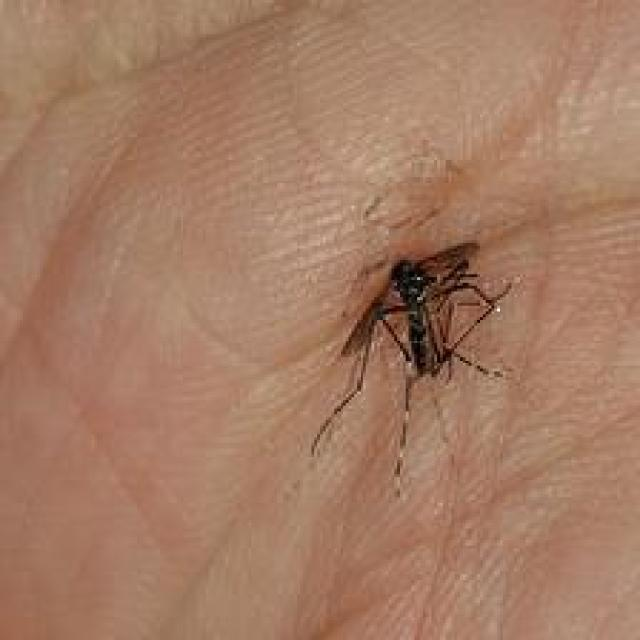Aedes albopictus: (309, 238, 514, 496)
